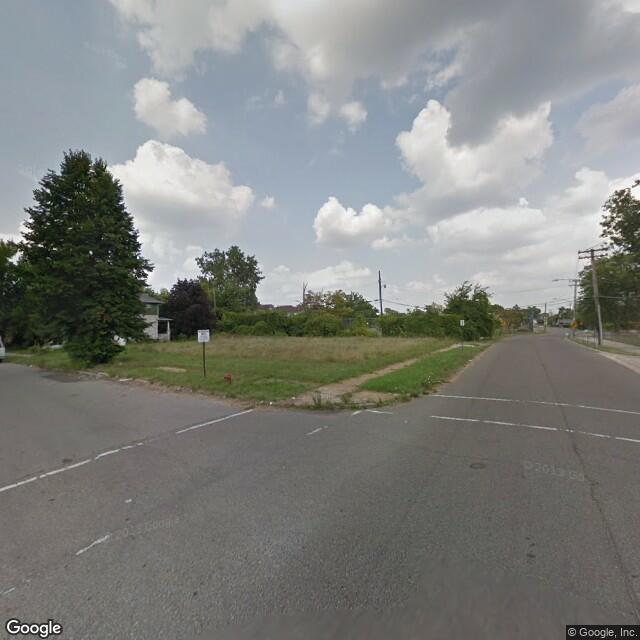litter: (28, 362, 36, 369), (288, 395, 297, 400), (269, 400, 272, 405)
